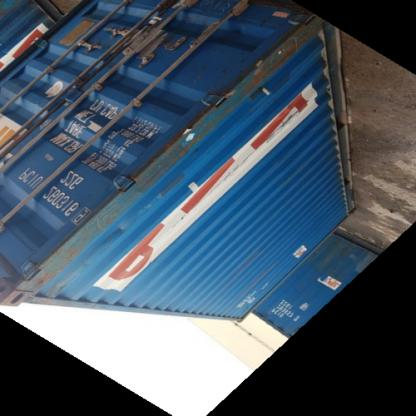Damage: (94, 150, 177, 228), (171, 86, 258, 150), (22, 221, 100, 290), (239, 23, 317, 90), (193, 65, 230, 75)
